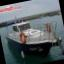fishing boat: (1, 7, 64, 64)
